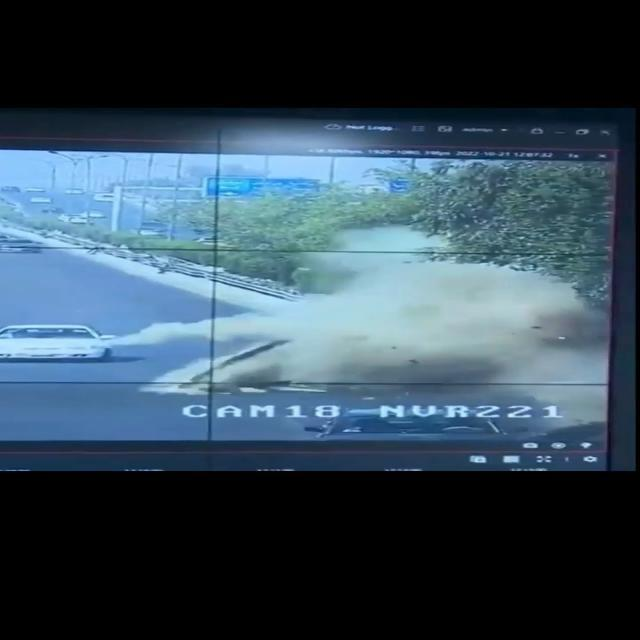accident: (181, 274, 619, 398)
